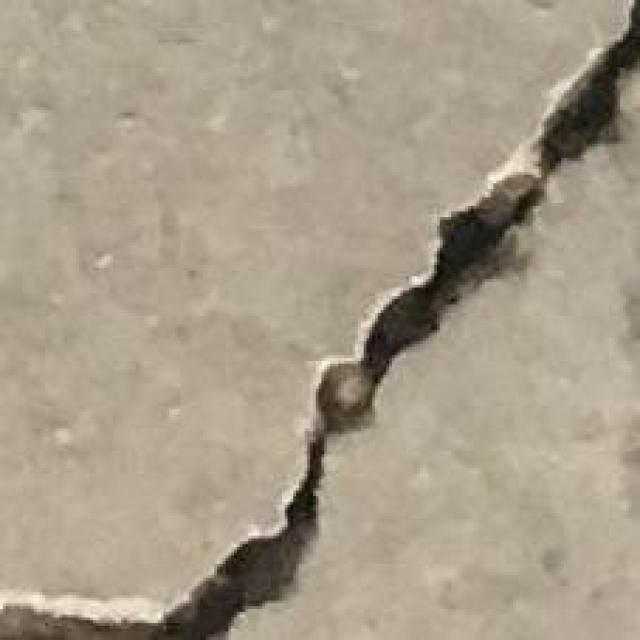diagonal crack: (0, 0, 639, 639)
